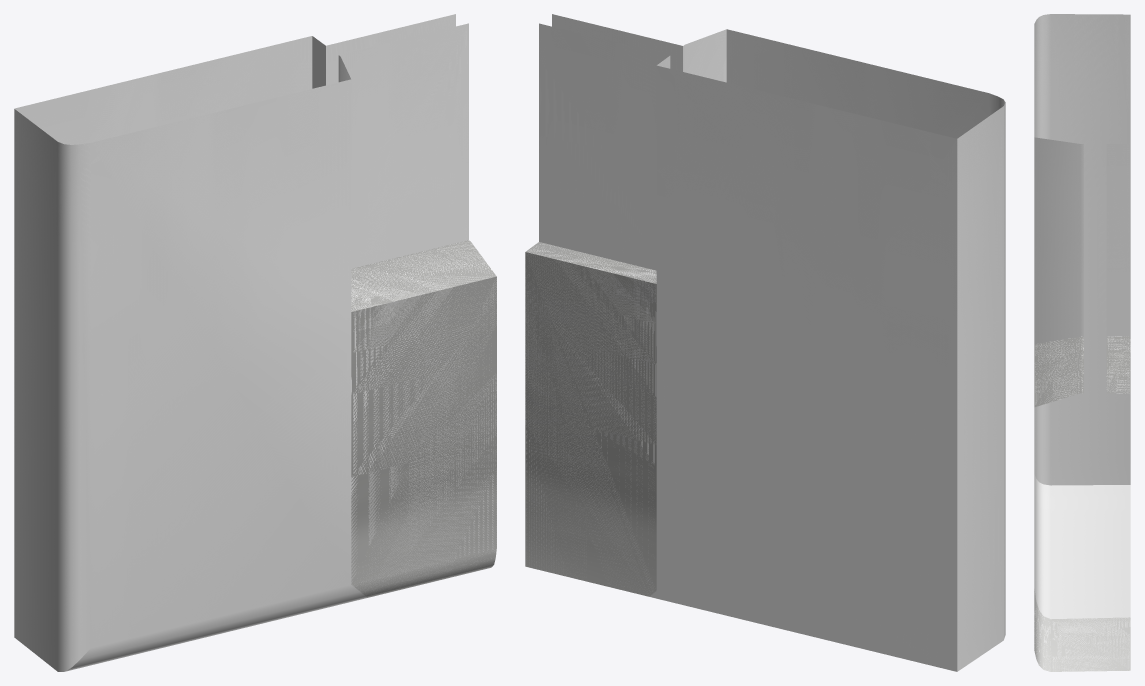
The model's file is original-42.obj.
3 renders of one model, left to right at view 1: azimuth 30°, elevation 25°; view 2: azimuth 150°, elevation 25°; view 3: azimuth 270°, elevation 25°, orthographic. The views are drawn at different scales.
Visible parts, largest first — view 1: RT_21_BL1/RT_21_BL/mesh34/mesh34-geometry#mesh34-geometry; view 2: RT_21_BL1/RT_21_BL/mesh34/mesh34-geometry#mesh34-geometry; view 3: RT_21_BL1/RT_21_BL/mesh34/mesh34-geometry#mesh34-geometry.
Part boxes in pixels (box(x1,y1,x2,y2)): RT_21_BL1/RT_21_BL/mesh34/mesh34-geometry#mesh34-geometry: box(14, 14, 496, 671); RT_21_BL1/RT_21_BL/mesh34/mesh34-geometry#mesh34-geometry: box(525, 14, 1005, 671); RT_21_BL1/RT_21_BL/mesh34/mesh34-geometry#mesh34-geometry: box(1034, 14, 1130, 671).
Size of the model in its own units: 0.124 by 0.1462 by 0.0271.
